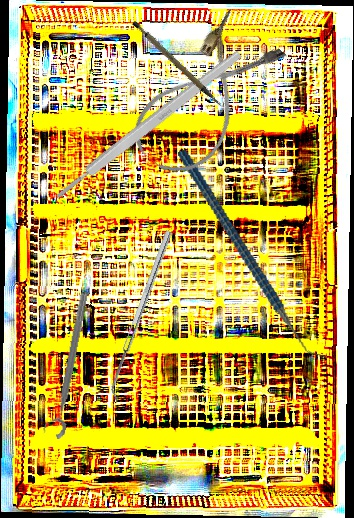Cannula: (121, 6, 292, 189)
Chopper: (177, 129, 329, 380)
Fixation Ring: (40, 289, 93, 440)
Scalpel Handle: (52, 48, 244, 202), (130, 10, 223, 120)
Spatula Surgical: (104, 230, 179, 403)
